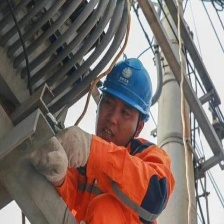helmet: (99, 55, 153, 120)
person: (81, 53, 174, 224)
vest: (92, 133, 166, 224)
